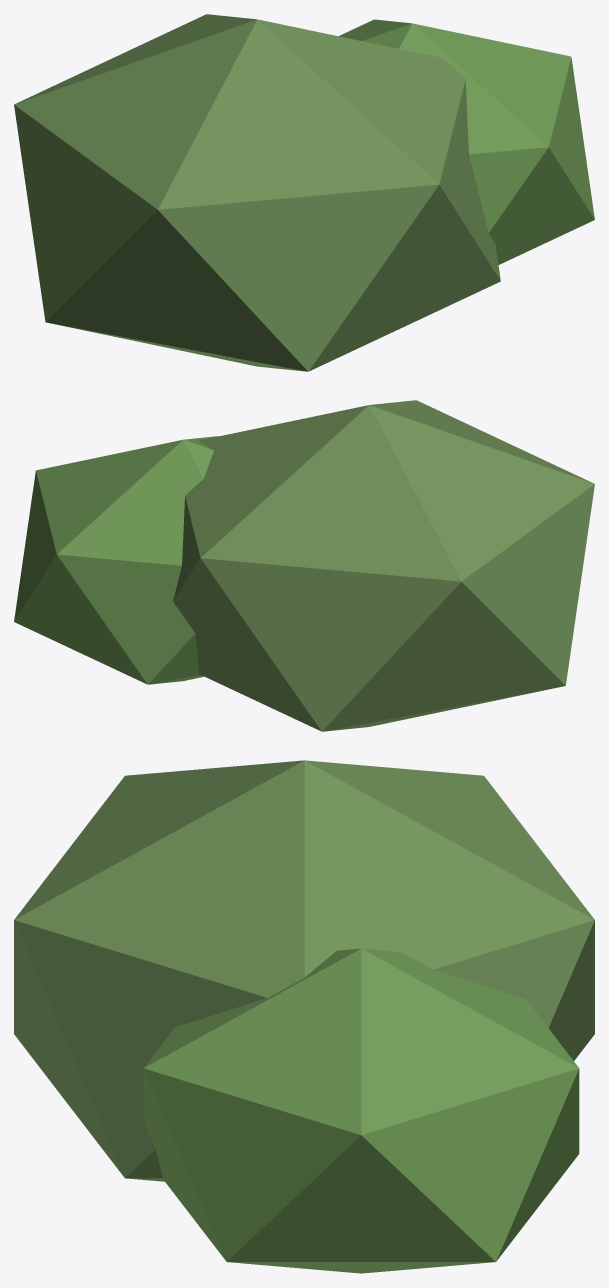
The model's file is prop_bush.fbx.
3 renders of one model, top to bottom at view 1: azimuth 30°, elevation 25°; view 2: azimuth 150°, elevation 25°; view 3: azimuth 270°, elevation 25°, orthographic. The views are drawn at different scales.
Visible parts, largest first — view 1: prop_bush; view 2: prop_bush; view 3: prop_bush.
Part boxes in pixels (x1,y1,x2,y2): prop_bush: (14, 14, 594, 371); prop_bush: (14, 400, 594, 731); prop_bush: (14, 760, 594, 1273).
Size of the model in its own units: 1.39 by 0.84 by 1.02.
1 material, 1 textured.
